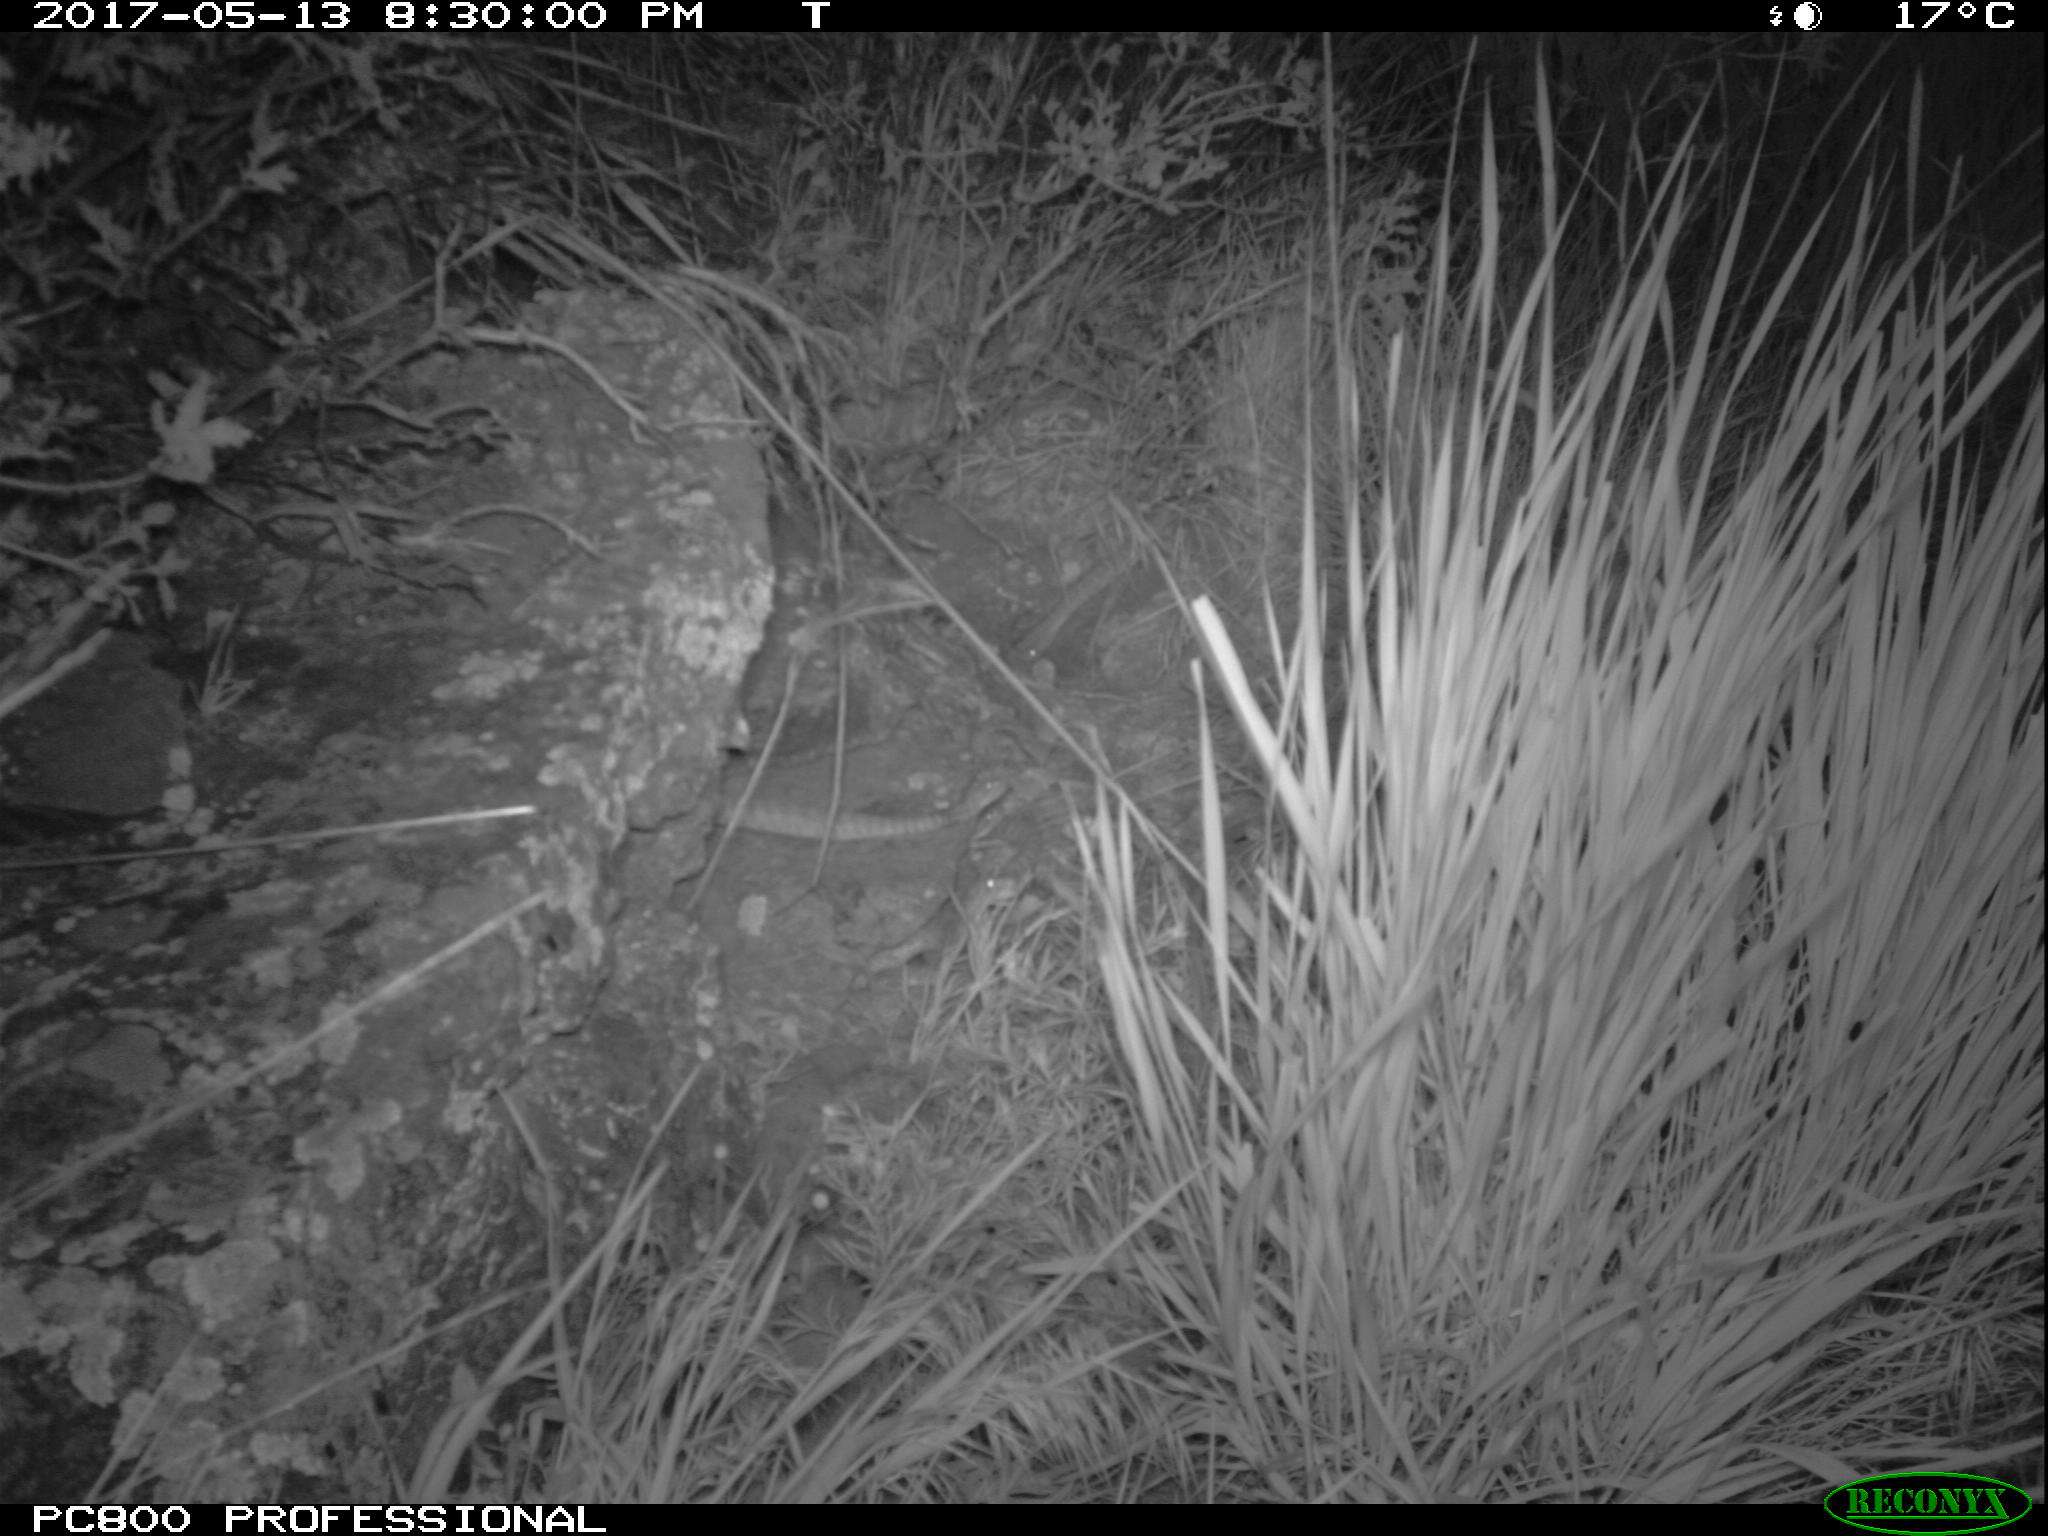snake: (714, 786, 1009, 844)
